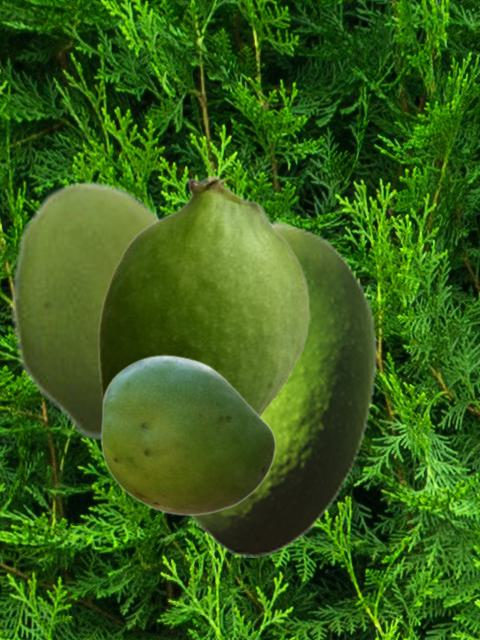green_mango: (185, 219, 377, 556), (97, 174, 309, 417), (11, 180, 160, 440), (100, 354, 275, 515)
